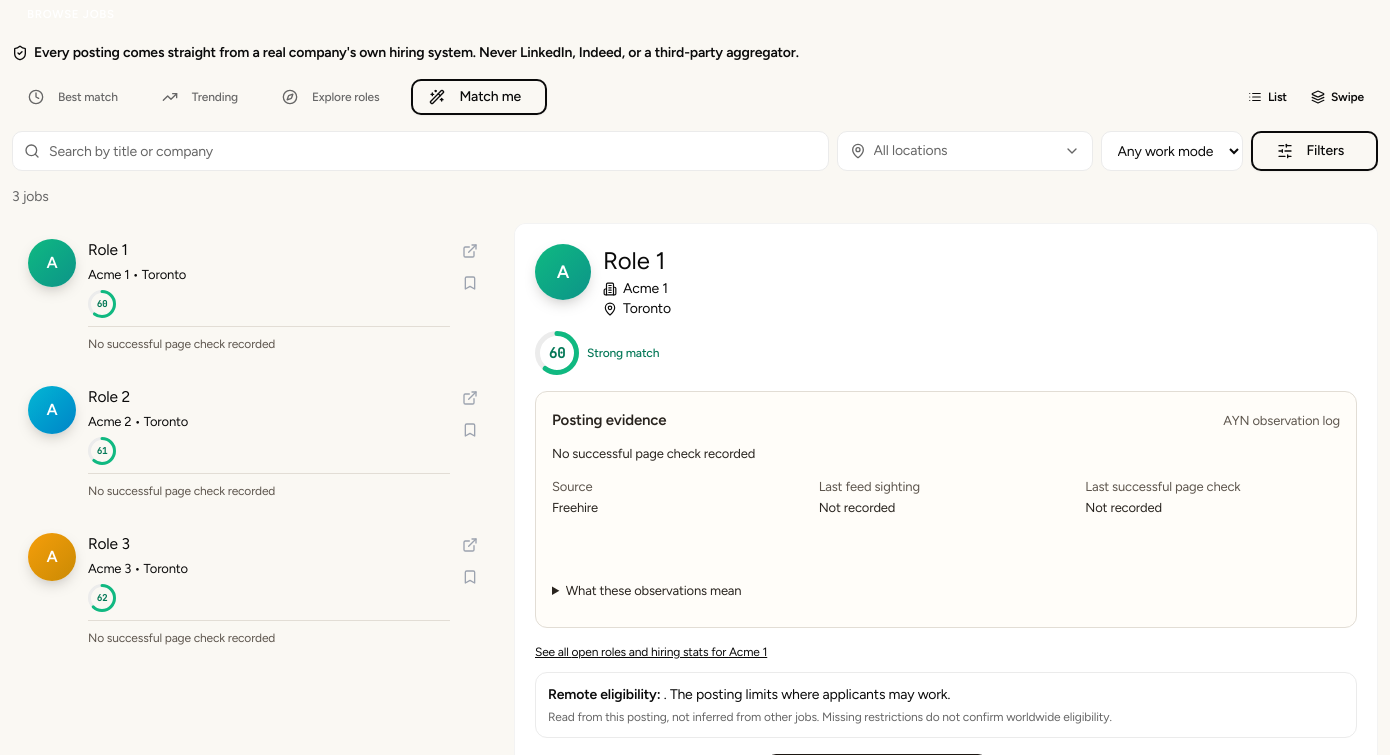
Scenario: BrowseJobs list (real component, mocked backend) › Filters menu: shows an active count, applies posted-within, and clears
Later steps or results of the test are not shown.
Click the button "Filters" at {"x": 1314, "y": 151}, box [1250,131,1378,171]
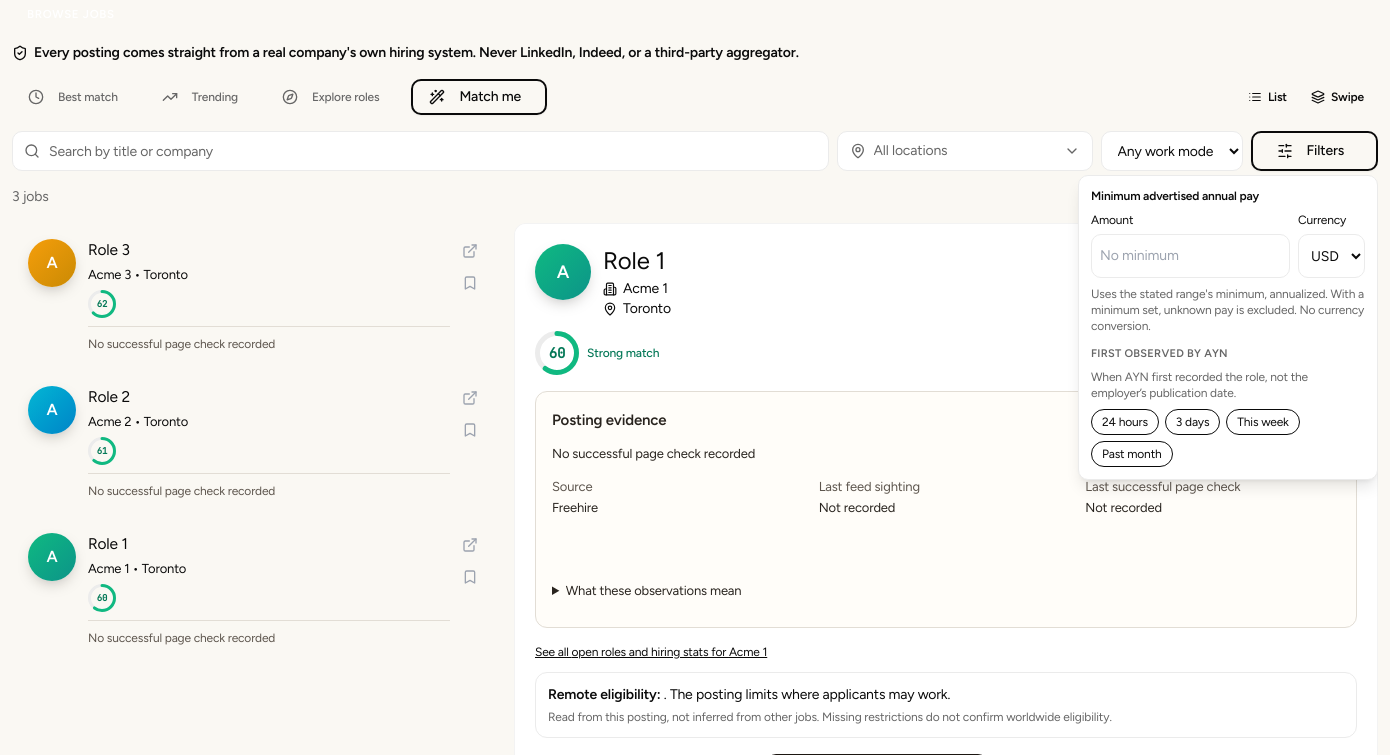
Result: the text "First observed by AYN" is shown at [1091,347,1228,360]
Click the button "3 days" at {"x": 1193, "y": 422}, box [1165,409,1220,435]
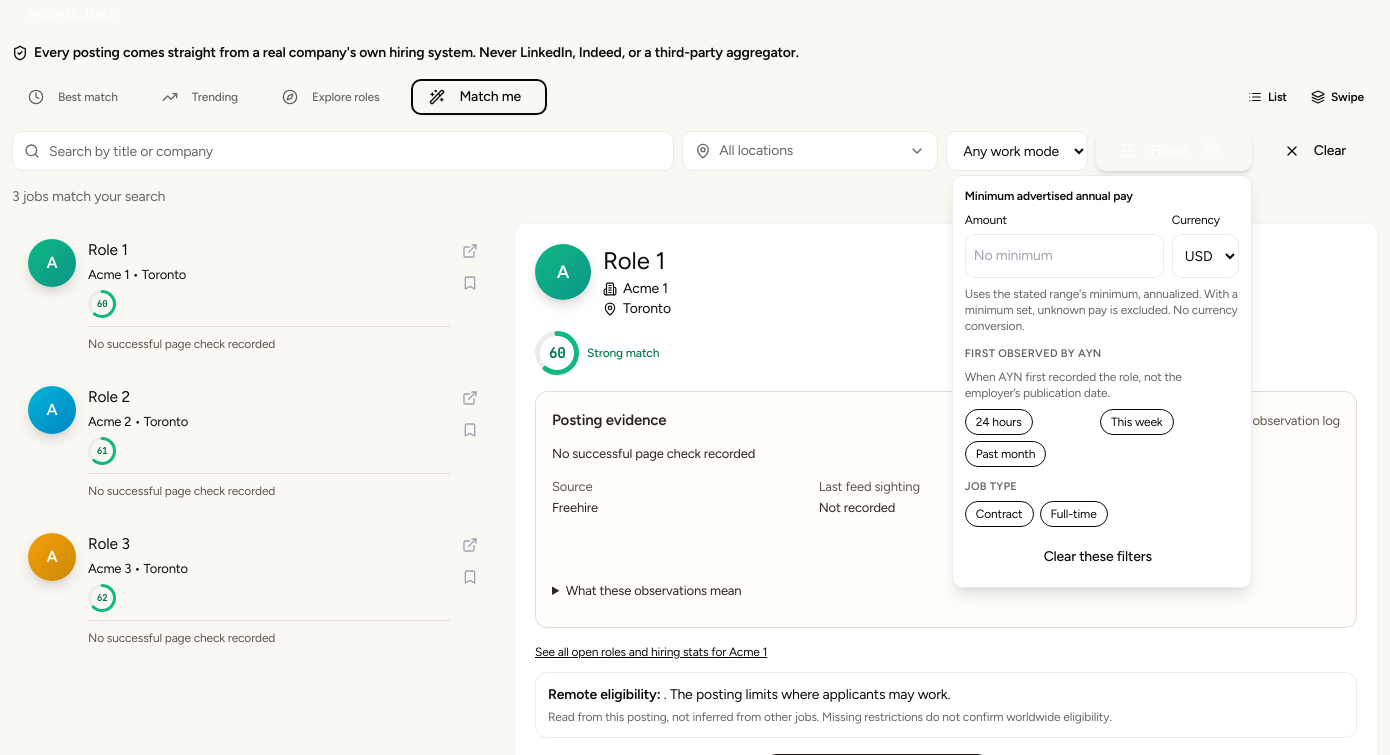
Result: the button "Filters 1" is shown at [1096,131,1252,171]
